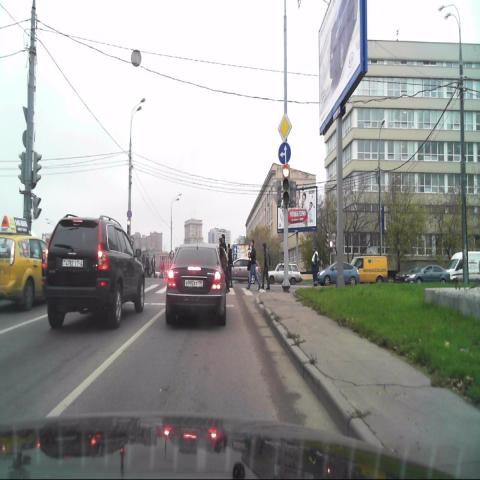4_1_5: (278, 141, 291, 164)
